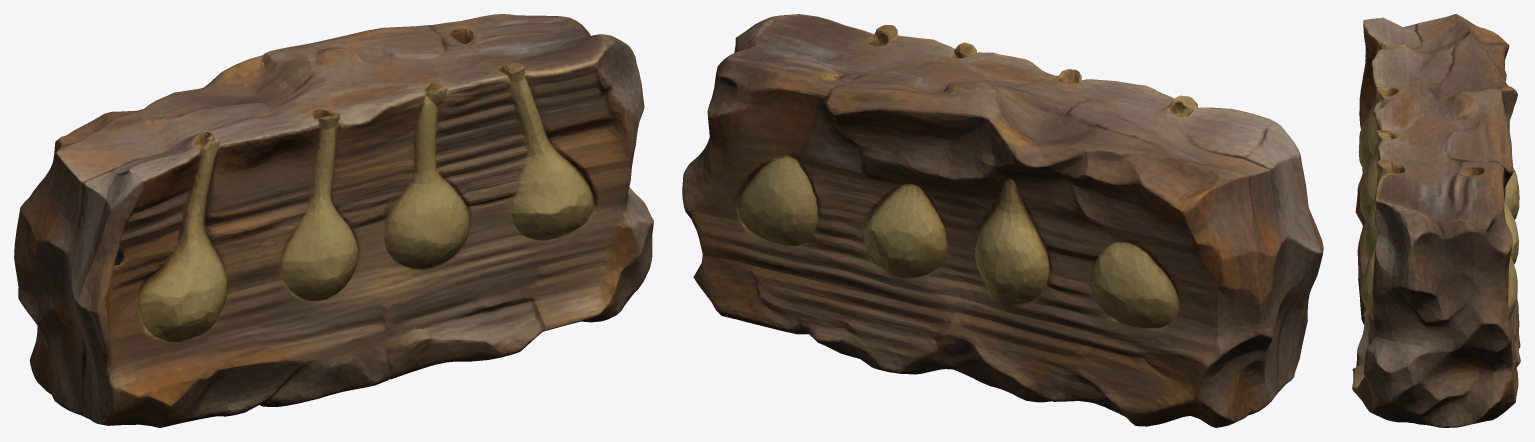
3 renders of one model, left to right at view 1: azimuth 30°, elevation 25°; view 2: azimuth 150°, elevation 25°; view 3: azimuth 270°, elevation 25°, orthographic. The views are drawn at different scales.
Parts seen in each view (by area): view 1: world; view 2: world; view 3: world.
Part boxes in pixels (x1=…): world: x1=14, y1=14, x2=653, y2=427; world: x1=682, y1=14, x2=1323, y2=427; world: x1=1352, y1=14, x2=1520, y2=427.
Bounding box in the file's own units: 1 × 0.4841 × 0.3091.
1 material, 1 textured.
